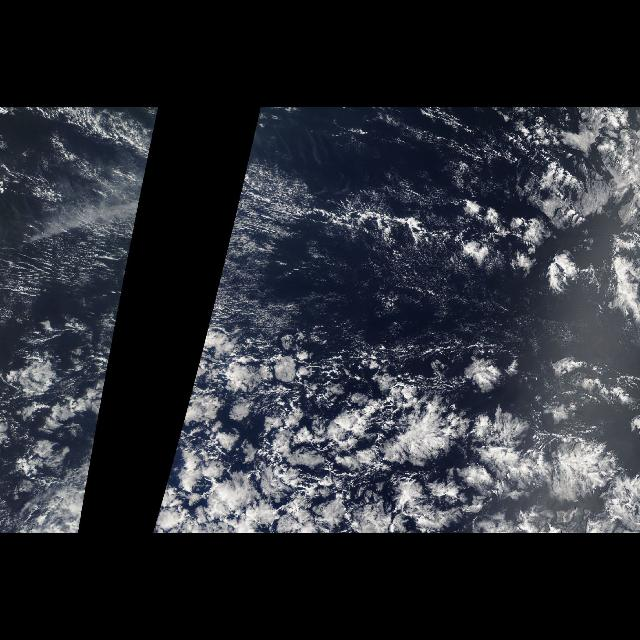Flower: (234, 332, 370, 532)
Sugar: (205, 154, 453, 332), (3, 154, 151, 332)
